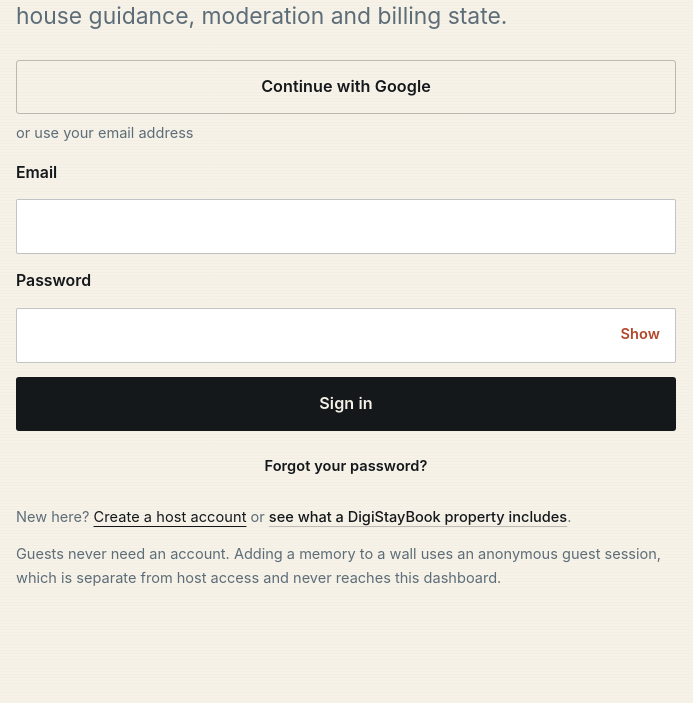
Test: host sign-in › requires an email address before sending a reset link
(page scrolled)
Click the button "Forgot your password?". click: {"x": 346, "y": 467}
box: [16, 445, 676, 488]
(page scrolled)
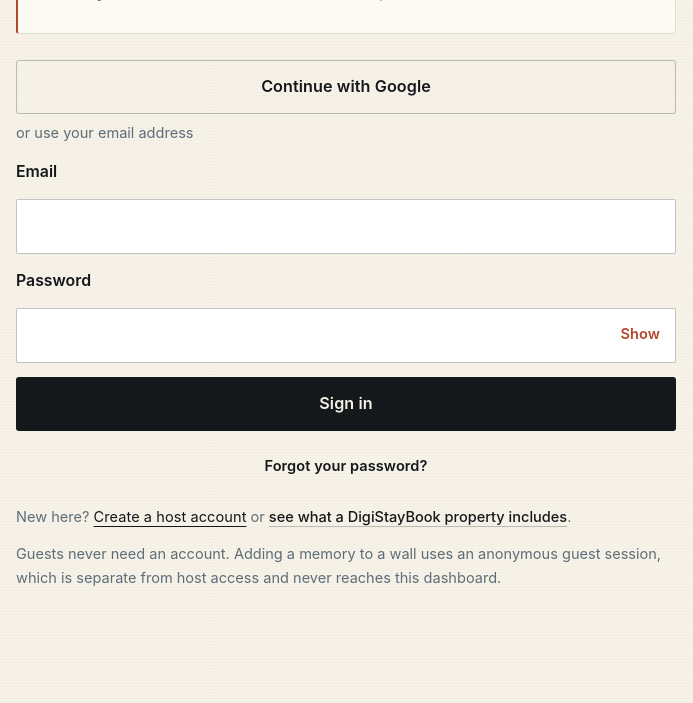
Type "host@example.com" into the field labelled "Email". click: {"x": 346, "y": 226}
box: [16, 199, 676, 254]
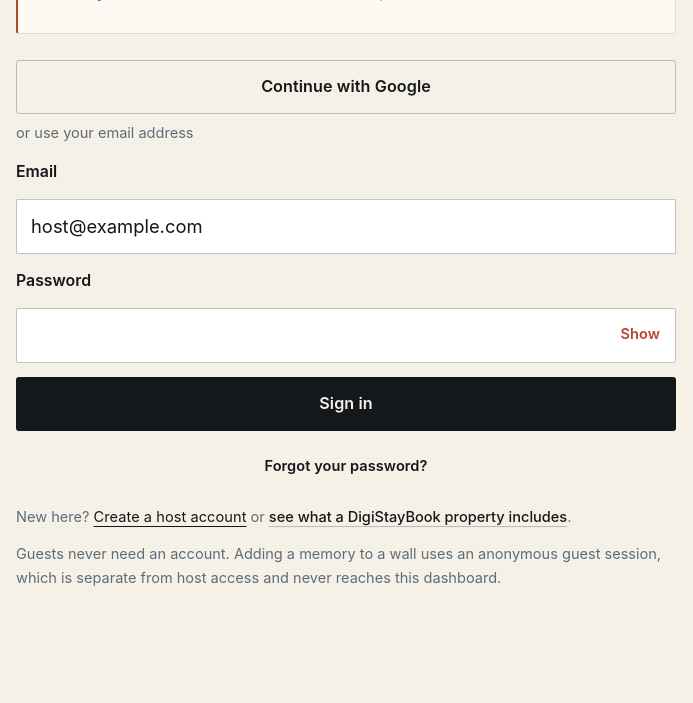
Click the button "Forgot your password?". click: {"x": 346, "y": 466}
box: [16, 445, 676, 488]
(page scrolled)
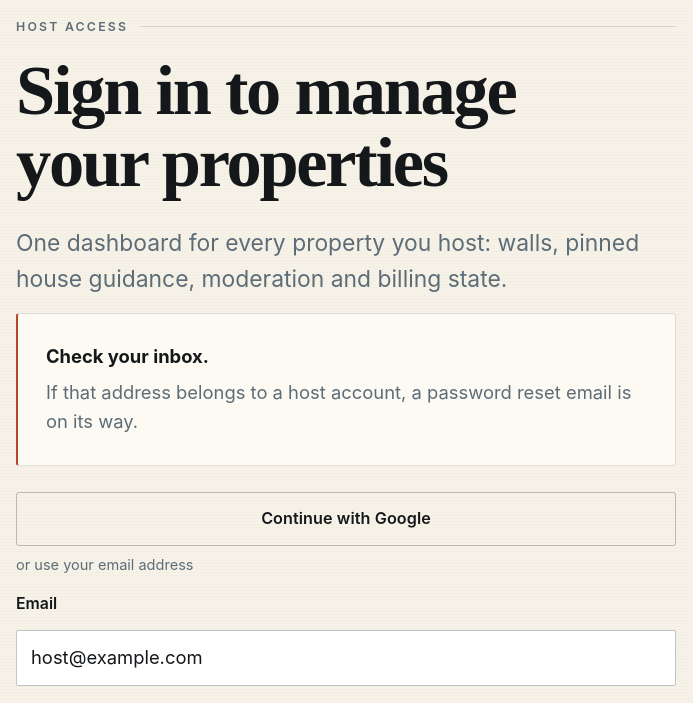
Result: the message shows "password reset email is on its way" at [46, 381, 631, 432]
